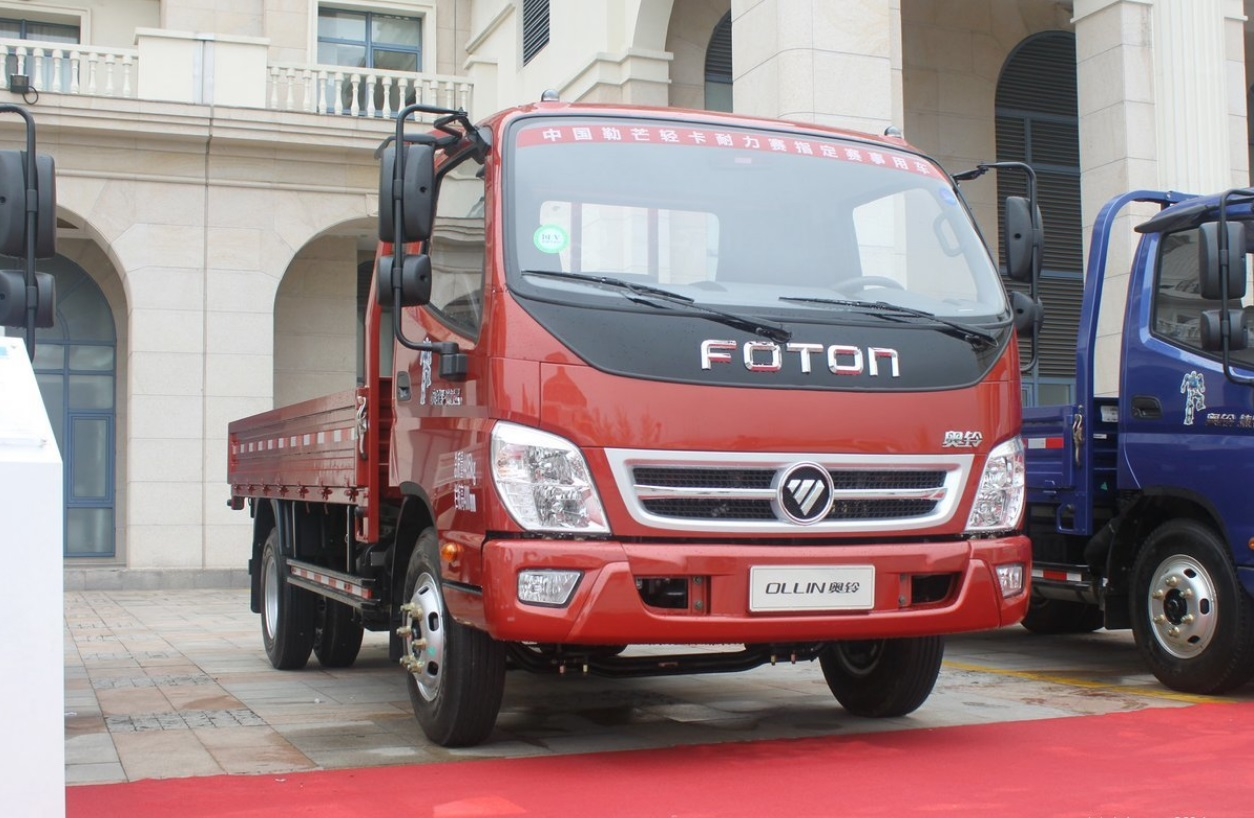truck: (219, 99, 1048, 754)
